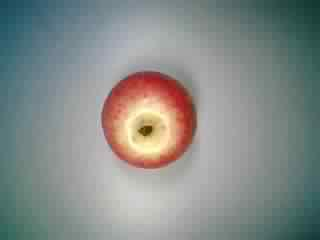apple: (100, 71, 206, 170)
